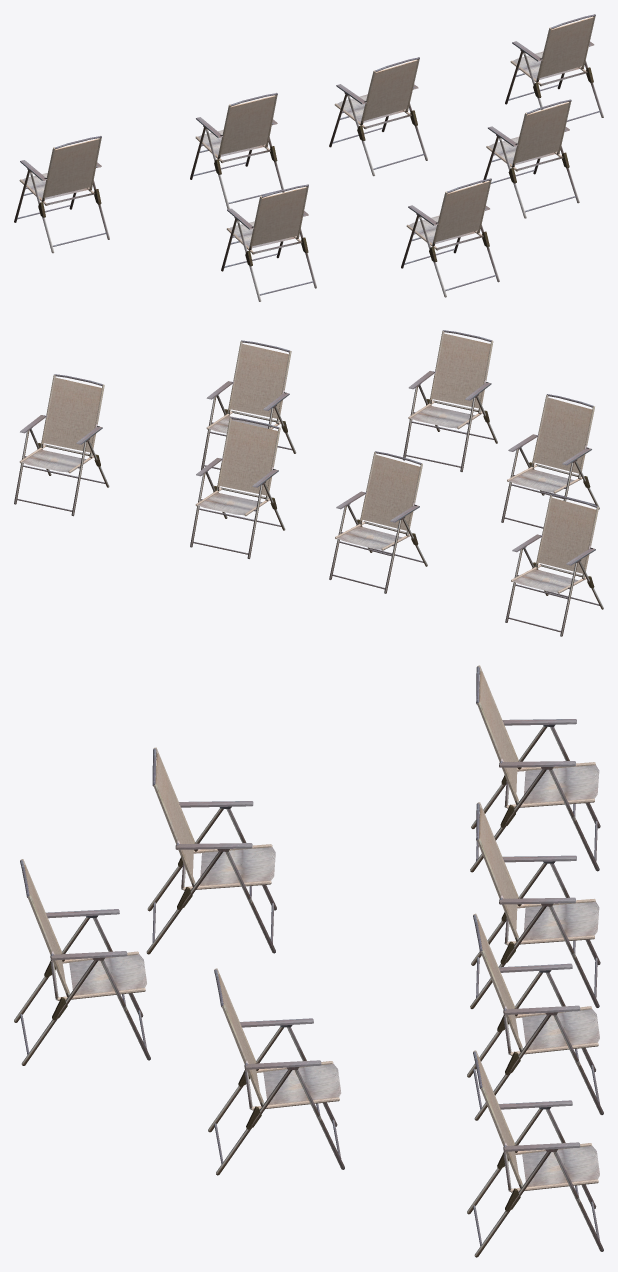
Rendered from Chairs.obj.
3 views of the same model, one above another, from view 1: azimuth 30°, elevation 25°; view 2: azimuth 150°, elevation 25°; view 3: azimuth 270°, elevation 25° (orthographic). The views are drawn at different scales.
Visible parts, largest first — view 1: PatioChair_Base.002_Plane.006, PatioChair_Base.002_Plane.003, PatioChair_Base.002_Plane.001, PatioChair_Base.002_Plane.002, PatioChair_Base.002_Plane.007, PatioChair_Base.002_Plane.005, PatioChair_Base.002_Plane.004; view 2: PatioChair_Base.002_Plane.002, PatioChair_Base.002_Plane.004, PatioChair_Base.002_Plane.007, PatioChair_Base.002_Plane.001, PatioChair_Base.002_Plane.003, PatioChair_Base.002_Plane.006, PatioChair_Base.002_Plane.005; view 3: PatioChair_Base.002_Plane.006, PatioChair_Base.002_Plane.001, PatioChair_Base.002_Plane.003, PatioChair_Base.002_Plane.005, PatioChair_Base.002_Plane.004, PatioChair_Base.002_Plane.007, PatioChair_Base.002_Plane.002.
Part boxes in pixels (x1,y1,x2,y2): PatioChair_Base.002_Plane.006: (221,184,316,301); PatioChair_Base.002_Plane.003: (14,135,109,253); PatioChair_Base.002_Plane.001: (190,92,284,209); PatioChair_Base.002_Plane.002: (329,57,427,176); PatioChair_Base.002_Plane.007: (401,178,499,297); PatioChair_Base.002_Plane.005: (482,99,579,218); PatioChair_Base.002_Plane.004: (505,14,603,121); PatioChair_Base.002_Plane.002: (190,417,285,558); PatioChair_Base.002_Plane.004: (14,374,109,516); PatioChair_Base.002_Plane.007: (403,330,497,471); PatioChair_Base.002_Plane.001: (329,451,427,593); PatioChair_Base.002_Plane.003: (505,494,603,636); PatioChair_Base.002_Plane.006: (501,394,599,528); PatioChair_Base.002_Plane.005: (201,340,296,469); PatioChair_Base.002_Plane.006: (146,747,276,954); PatioChair_Base.002_Plane.001: (470,802,600,1008); PatioChair_Base.002_Plane.003: (470,665,600,872); PatioChair_Base.002_Plane.005: (208,968,344,1175); PatioChair_Base.002_Plane.004: (467,1050,603,1257); PatioChair_Base.002_Plane.007: (14,859,150,1065); PatioChair_Base.002_Plane.002: (467,913,603,1120).
Size of the model in its own units: 15.75 by 2.85 by 9.12.
